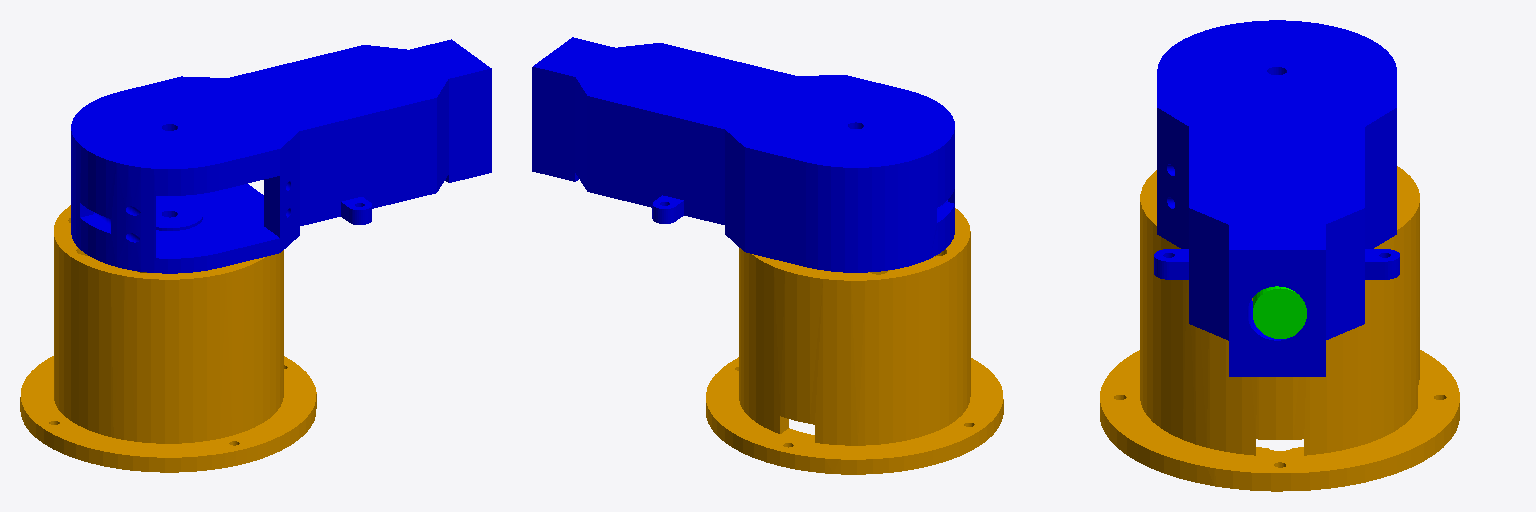
URDF robot description (robot_arm):
<?xml version="1.0"?>
<robot name="robot_arm">

    <!-- base link -->

    <link name="base_link">
        <visual>
            <origin xyz="-0.045 0.045 0" rpy="1.5708 0 0" />
            <geometry>
                <!-- <cylinder length="0.1" radius="0.05"/>  -->
                <mesh
                    filename="package://robot_description/meshes/Part1.STL"
                    scale="0.001 0.001 0.001" />
            </geometry>
        </visual>

        <collision>
            <origin xyz="-0.045 0.045 0" rpy="1.5708 0 0" />
            <geometry>
                <!-- <cylinder length="0.1" radius="0.1"/>  -->
                <!-- <mesh
                    filename="package://robot_description/meshes/Roboti_algus - roomuk-1 Part1.STL"
                    scale="10 10 10" /> -->
                <mesh
                    filename="package://robot_description/meshes/Part1.STL"
                    scale="0.001 0.001 0.001" />
            </geometry>
        </collision>
    </link>

    <!-- link 1 -->
    <link name="link1">
        <visual>
            <origin xyz="-0.03 0.03 0" rpy="1.5708 0 0" />
            <geometry>
                <mesh
                    filename="package://robot_description/meshes/Part2.STL"
                    scale="0.001 0.001 0.001" />
            </geometry>
            <material name="blue">
                <color rgba="0.0 0.0 1.0 1.0" /> <!-- Blue color -->
            </material>
        </visual>

        <collision>
            <origin xyz="-0.03 0.03 0" rpy="1.5708 0 0" />
            <geometry>
                <mesh
                    filename="package://robot_description/meshes/Part2.STL"
                    scale="0.001 0.001 0.001" />
            </geometry>
        </collision>

        <inertial>
            <origin xyz="0 0 0" rpy="0 0 0" />
            <mass value="1" />
            <inertia ixx="0.001" ixy="0" ixz="0" iyy="0.001" iyz="0" izz="0.001" />
        </inertial>
    </link>

    <!--joint1-->
    <joint name="joint1" type="revolute">
        <parent link="base_link" />
        <child link="link1" />
        <origin xyz="0 0 0.06" rpy="0 0 0" />
        <axis xyz="0 0 1" />
        <limit lower="0" upper="3.1416" effort="100" velocity="1" />
    </joint>

    <!-- link 2 -->
    <link name="link2">
        <visual>
            <!-- 1.5708 -->
            <origin xyz="-0.115 -0.017 -0.03" rpy="1.5708 0 1.5708" />
            <geometry>
                <mesh
                    filename="package://robot_description/meshes/Part6.6.STL"
                    scale="0.001 0.001 0.001" />
            </geometry>
            <material name="green">
                <color rgba="0.0 1.0 0.0 1.0"/>
            </material>
        </visual>

        <collision>
            <origin xyz="-0.115 -0.017 -0.03" rpy="1.5708 0 1.5708" />
            <geometry>
                <!-- <box size="0.1 0.1 0.1" /> -->
                <mesh
                    filename="package://robot_description/meshes/Part6.6.STL"
                    scale="0.001 0.001 0.001" />
            </geometry>
        </collision>

        <inertial>
            <origin xyz="0 0 0" rpy="0 0 0" />
            <mass value="1" />
            <inertia ixx="0.001" ixy="0" ixz="0" iyy="0.001" iyz="0" izz="0.001" />
        </inertial>
    </link>

    <!--joint2-->
    <joint name="joint2" type="prismatic">
        <parent link="link1" />
        <child link="link2" />
        <origin xyz="0.105 0 0.0175" rpy="0 0 0" />
        <axis xyz="1 0 0" />
        <limit lower="0" upper="0.022" effort="100" velocity="1" />
    </joint>

</robot>

--- Facts derived from the render (not from the file) ---
The picture shows the robot from 3 angles, left to right: view 1: azimuth 30°, elevation 25°; view 2: azimuth 150°, elevation 25°; view 3: azimuth 270°, elevation 25°; orthographic projection.
Model robot_arm with 3 links and 2 joints (1 revolute, 1 prismatic), rooted at base_link, posed all joints at 0.
Links seen in each view (by area): view 1: link1, base_link; view 2: link1, base_link; view 3: link1, base_link, link2.
Boxes of the visible links, left/top/right/bottom form: link1: left=71, top=39, right=491, bottom=273; base_link: left=20, top=205, right=316, bottom=472; link1: left=532, top=37, right=954, bottom=272; base_link: left=706, top=208, right=1003, bottom=474; link1: left=1154, top=20, right=1399, bottom=376; base_link: left=1100, top=166, right=1459, bottom=491; link2: left=1253, top=286, right=1306, bottom=338.
Size in the robot's own frame: 0.1508 by 0.0901 by 0.095 metres.
Meshes: 3 distinct files referenced, 3 mesh visuals loaded (3 binary STL).
